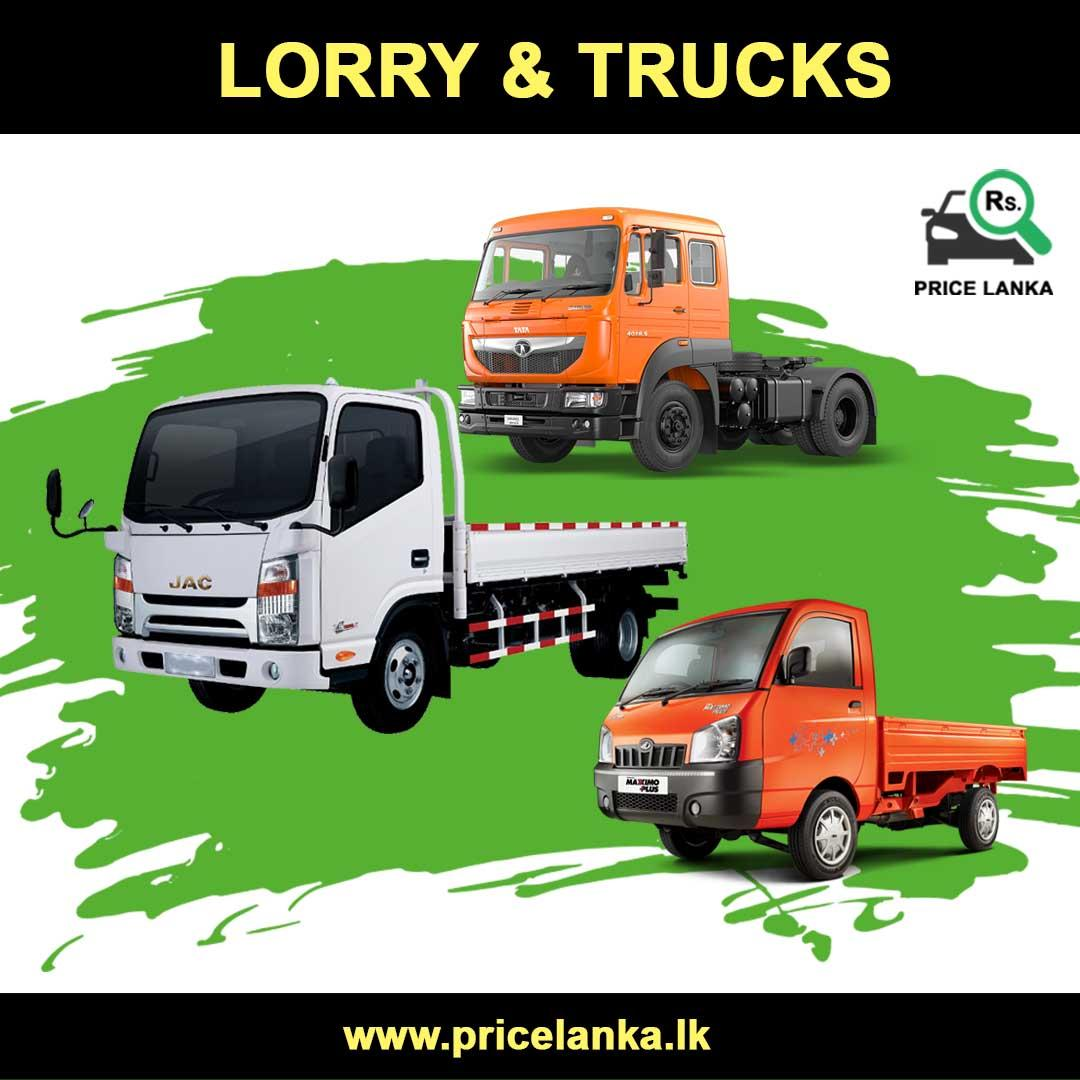truck: (45, 377, 687, 735), (593, 603, 1027, 881), (457, 207, 878, 474)
